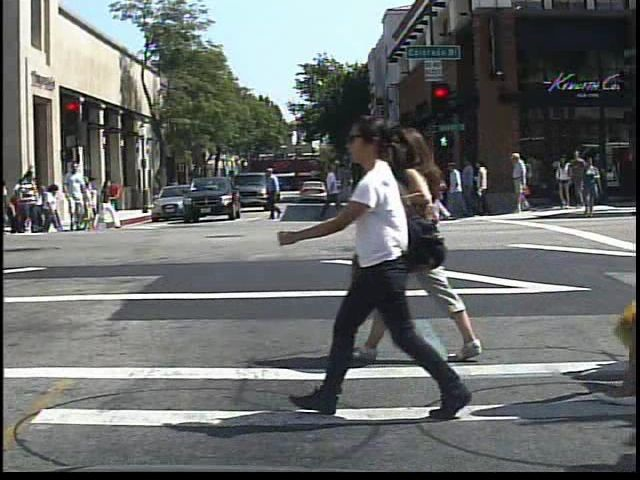person: (291, 108, 450, 422), (384, 119, 487, 364), (59, 161, 90, 233), (15, 166, 40, 236), (509, 147, 531, 213), (166, 173, 184, 206), (109, 179, 124, 209)
